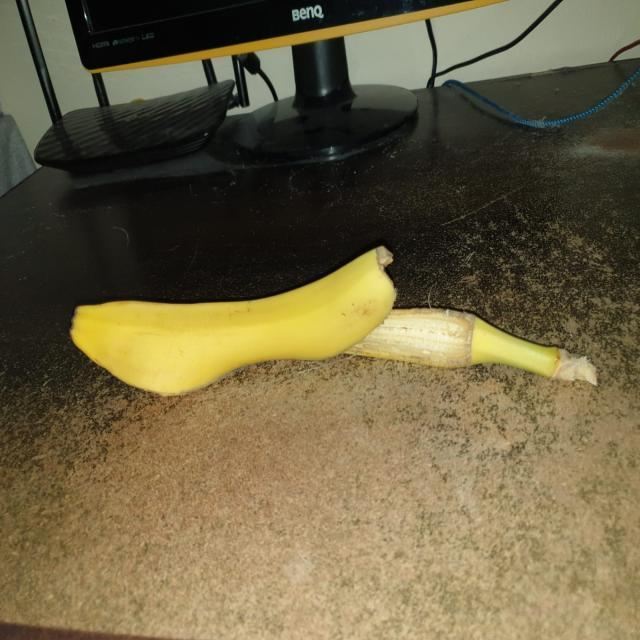banana-peel: (68, 243, 397, 396), (342, 305, 598, 387)
